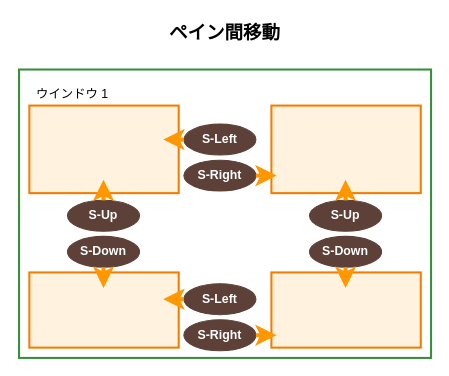
The diagram is 449 pixels wide and 376 high, and some of its shapes have lost their labels. The shapes that lost their labels are listed below. From the top down, each one's box as (x1, y1, x2, y2) in pixels, then its label:
(28, 104, 179, 194): ペイン 1
(270, 104, 421, 194): ペイン 2
(28, 271, 179, 348): ペイン 3
(270, 271, 421, 348): ペイン 4
